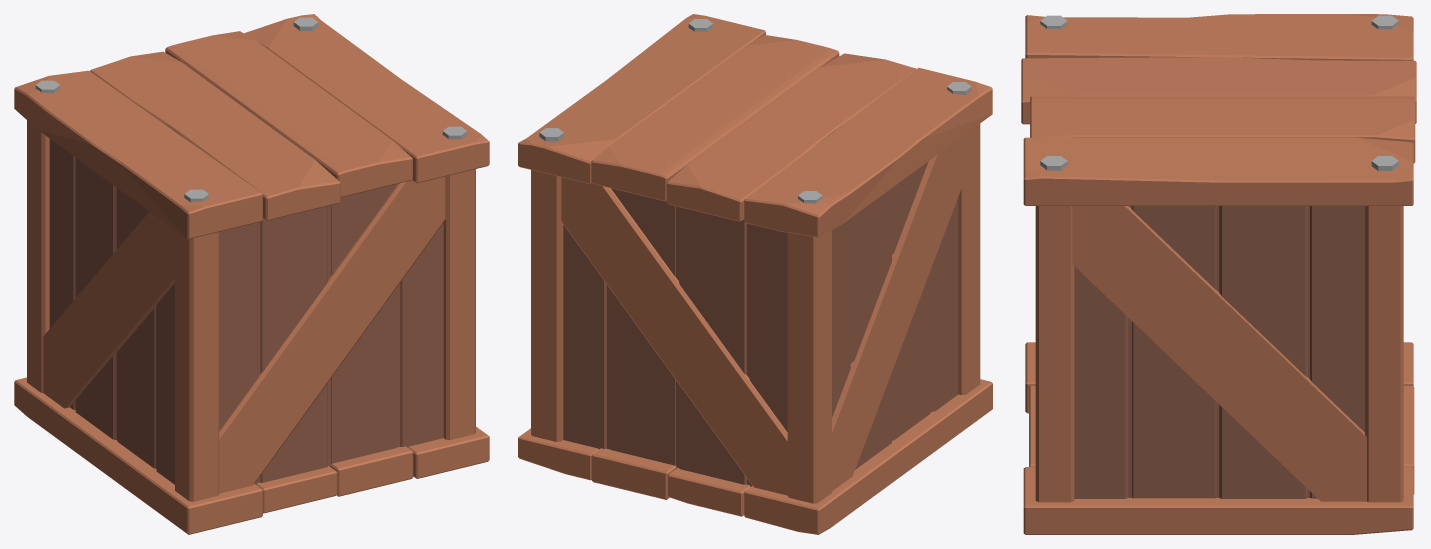
File: crate.gltf
The picture shows the model from 3 angles, left to right: view 1: azimuth 30°, elevation 25°; view 2: azimuth 150°, elevation 25°; view 3: azimuth 270°, elevation 25°; orthographic projection. The views are drawn at different scales.
Visible parts, largest first — view 1: Cube.005, Cube.001, Cube.006, Cube.003, Cube.004, Cube.008, Cube.009, Cube.010, Cube.007, Cube.011, Cube.013, Cube.002 (+3 smaller); view 2: Cube.005, Cube.001, Cube.006, Cube.003, Cube.004, Cube.008, Cube.009, Cube.010, Cube.007, Cube.011, Cube.013, Cube.012 (+3 smaller); view 3: Cube.003, Cube.007, Cube.010, Cube.001, Cube.008, Cube.004, Cube.009, Cube.002, Cube, Cylinder.001, Cube.011, Cube.013 (+1 smaller).
Part boxes in pixels (x1,y1,x2,y2): Cube.005: (219,184,443,484); Cube.001: (27,120,475,501); Cube.006: (219,176,445,493); Cube.003: (49,139,174,484); Cube.004: (14,70,262,239); Cube.008: (165,31,412,197); Cube.009: (89,51,340,220); Cube.010: (244,14,489,183); Cube.007: (43,211,174,408); Cube.011: (14,377,262,534); Cube.013: (330,446,413,496); Cube.002: (408,426,489,478); Cube.005: (563,188,787,486); Cube.001: (531,124,980,503); Cube.006: (561,177,787,495); Cube.003: (832,161,958,469); Cube.004: (744,67,992,237); Cube.008: (591,35,839,201); Cube.009: (666,53,916,221); Cube.010: (518,14,765,184); Cube.007: (832,135,963,491); Cube.011: (744,379,992,534); Cube.013: (591,448,676,499); Cube.012: (668,467,750,516); Cube.003: (1074,206,1364,498); Cube.007: (1072,206,1366,501); Cube.010: (1023,137,1413,205); Cube.001: (1035,206,1403,502); Cube.008: (1030,96,1415,163); Cube.004: (1025,14,1413,60); Cube.009: (1021,57,1416,124); Cube.002: (1023,467,1413,534); Cube: (1128,206,1309,497); Cylinder.001: (1040,15,1398,171); Cube.011: (1025,342,1413,413); Cube.013: (1029,424,1414,494).
Bounding box in the file's own units: 2.24 × 2.32 × 2.28.
